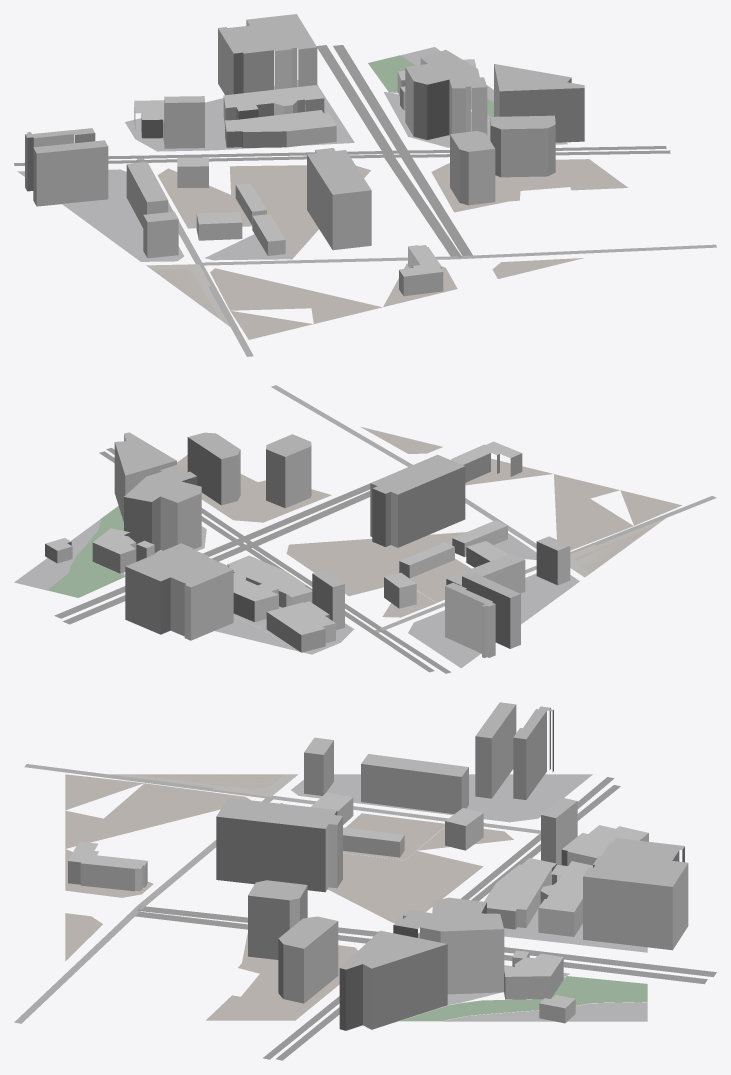
The picture shows the model from 3 angles, top to bottom: view 1: azimuth 30°, elevation 25°; view 2: azimuth 150°, elevation 25°; view 3: azimuth 270°, elevation 25°; orthographic projection. The views are drawn at different scales.
Bounding box in the file's own units: 605 × 61.02 × 604.
